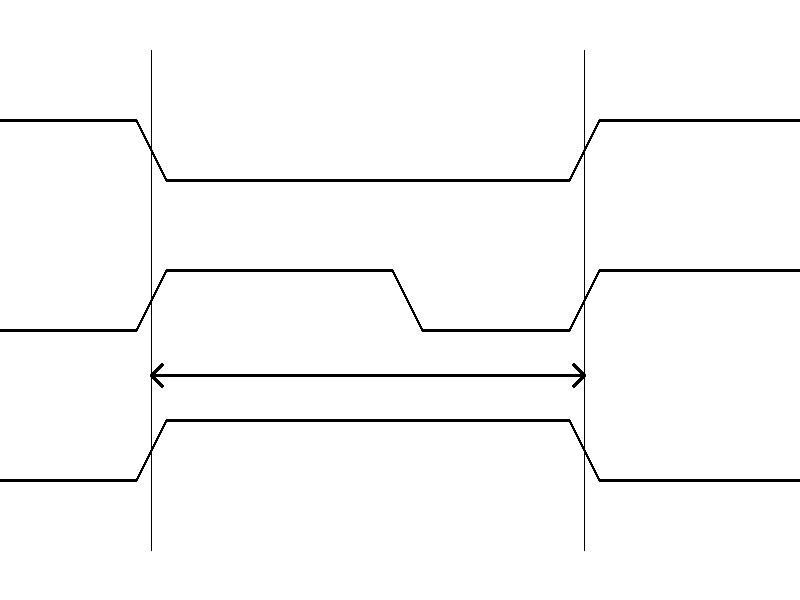double_arrow: (151, 360, 584, 390)
